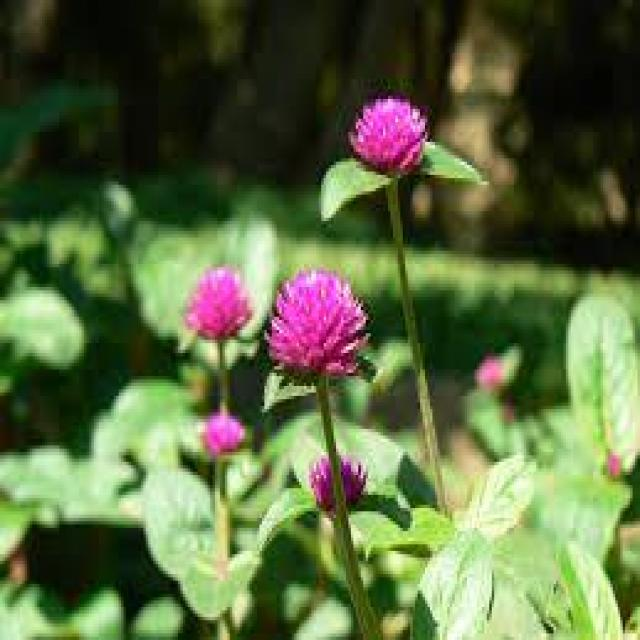organic waste: (256, 260, 367, 392), (351, 92, 447, 185), (188, 254, 262, 346), (313, 450, 384, 503), (199, 406, 248, 468)
